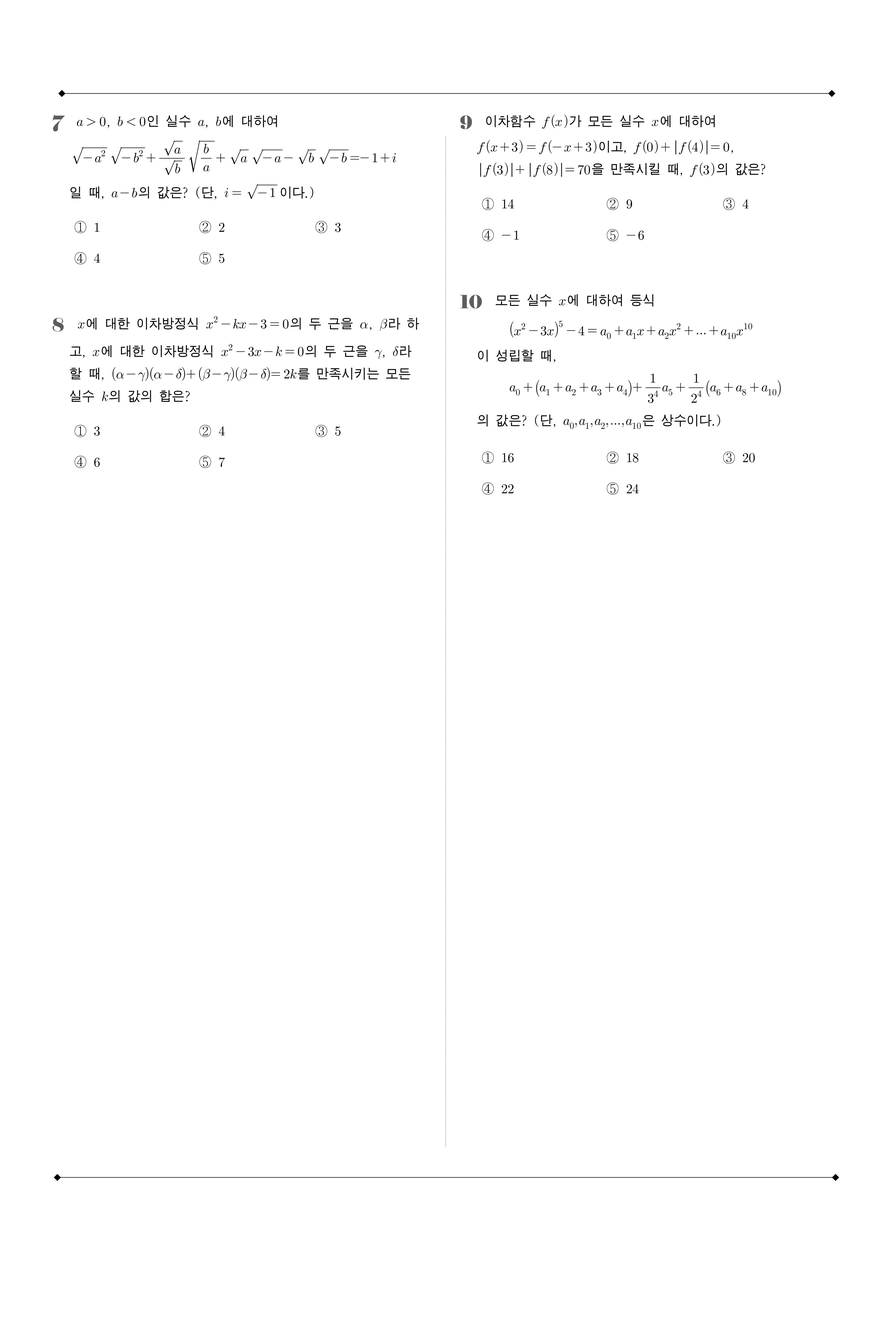problem: (452, 283, 835, 516), (40, 303, 438, 475), (43, 107, 435, 271), (448, 103, 828, 254)
